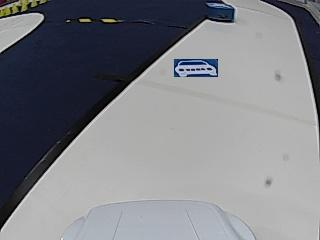prop: (206, 3, 234, 21)
